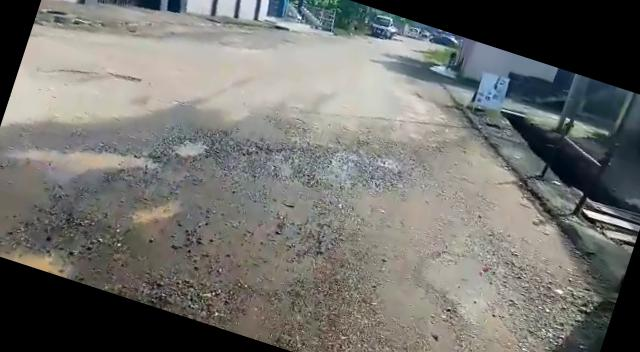pothole: (160, 125, 213, 164)
